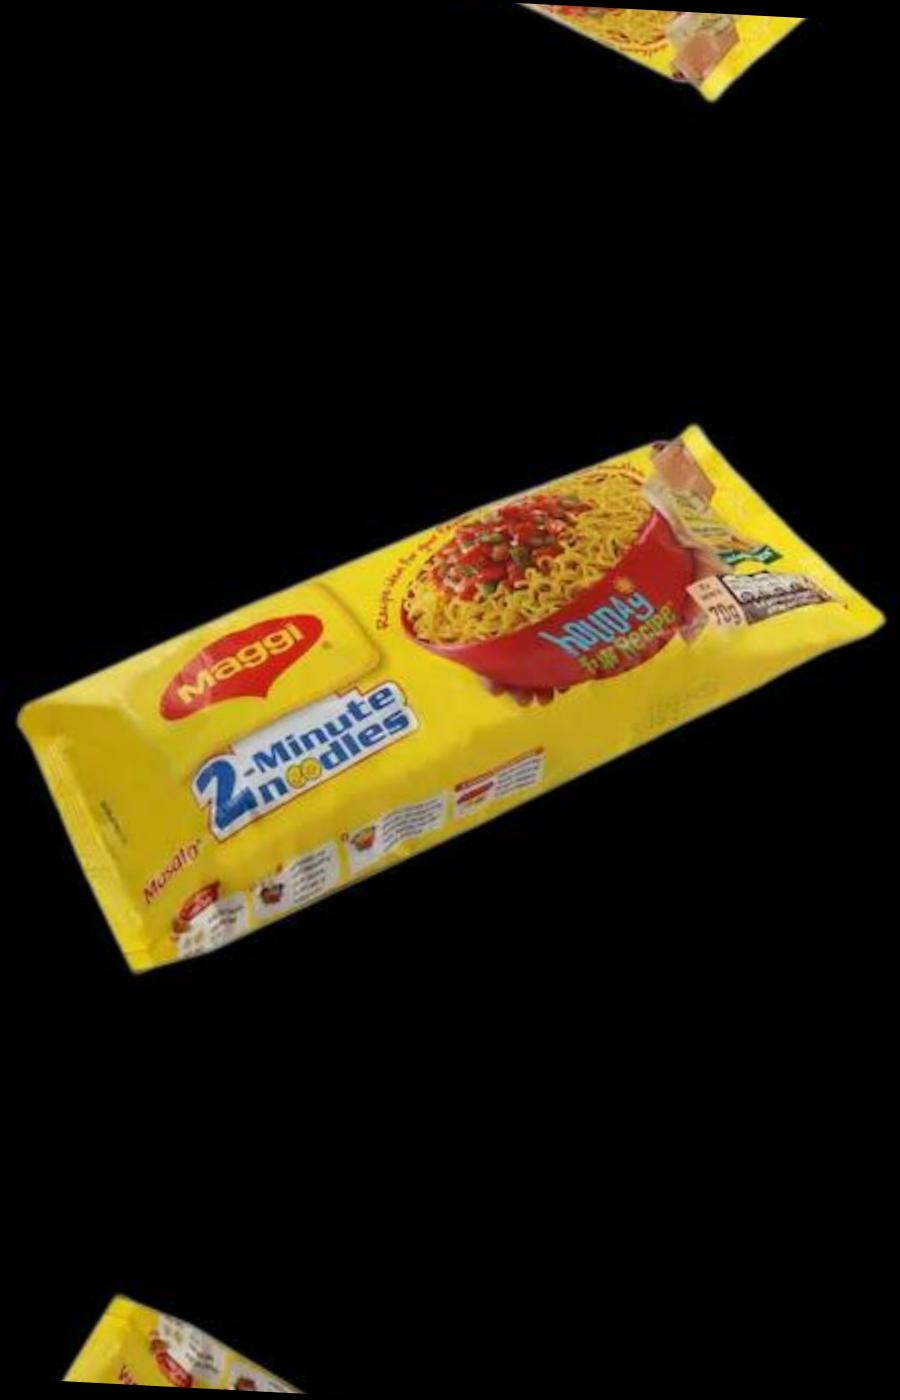Maggi 2-Minute Masala Instant Noodles 420 g: (14, 393, 890, 1007)
